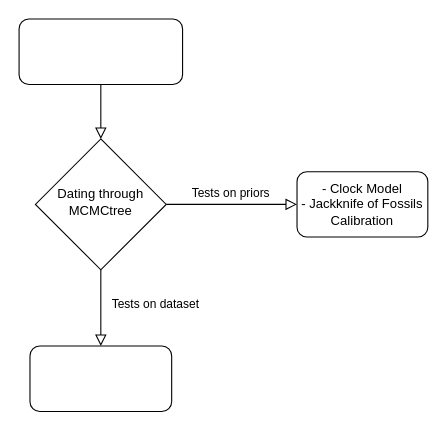
Some shapes in this 447 by 431 pixel diagram are drawn without their labels. The shapes that lost their labels are listed below. From the top down, each one's centre as x and y in pixels, then its label:
At point 100,51: "Nucleotides Mitochondrial Dataset".
At point 100,378: "- Remove groups with Long Branch Attraction - Amino acids alignment".
